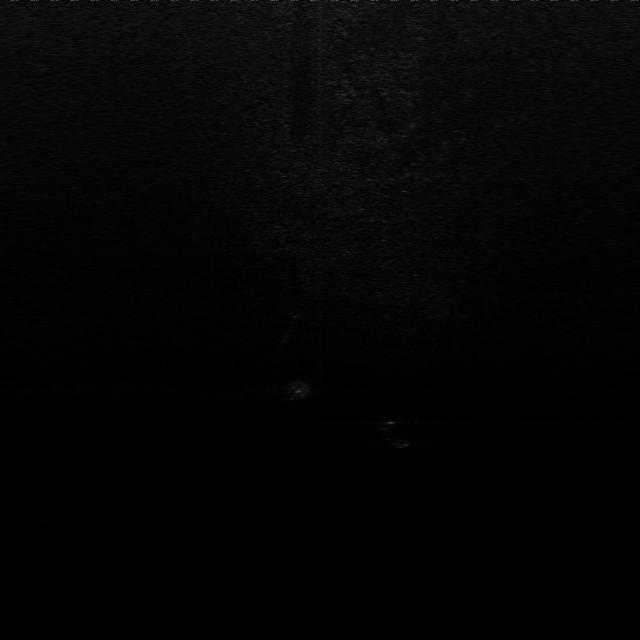circle cage: (284, 375, 317, 404)
tyre: (374, 415, 424, 453)
